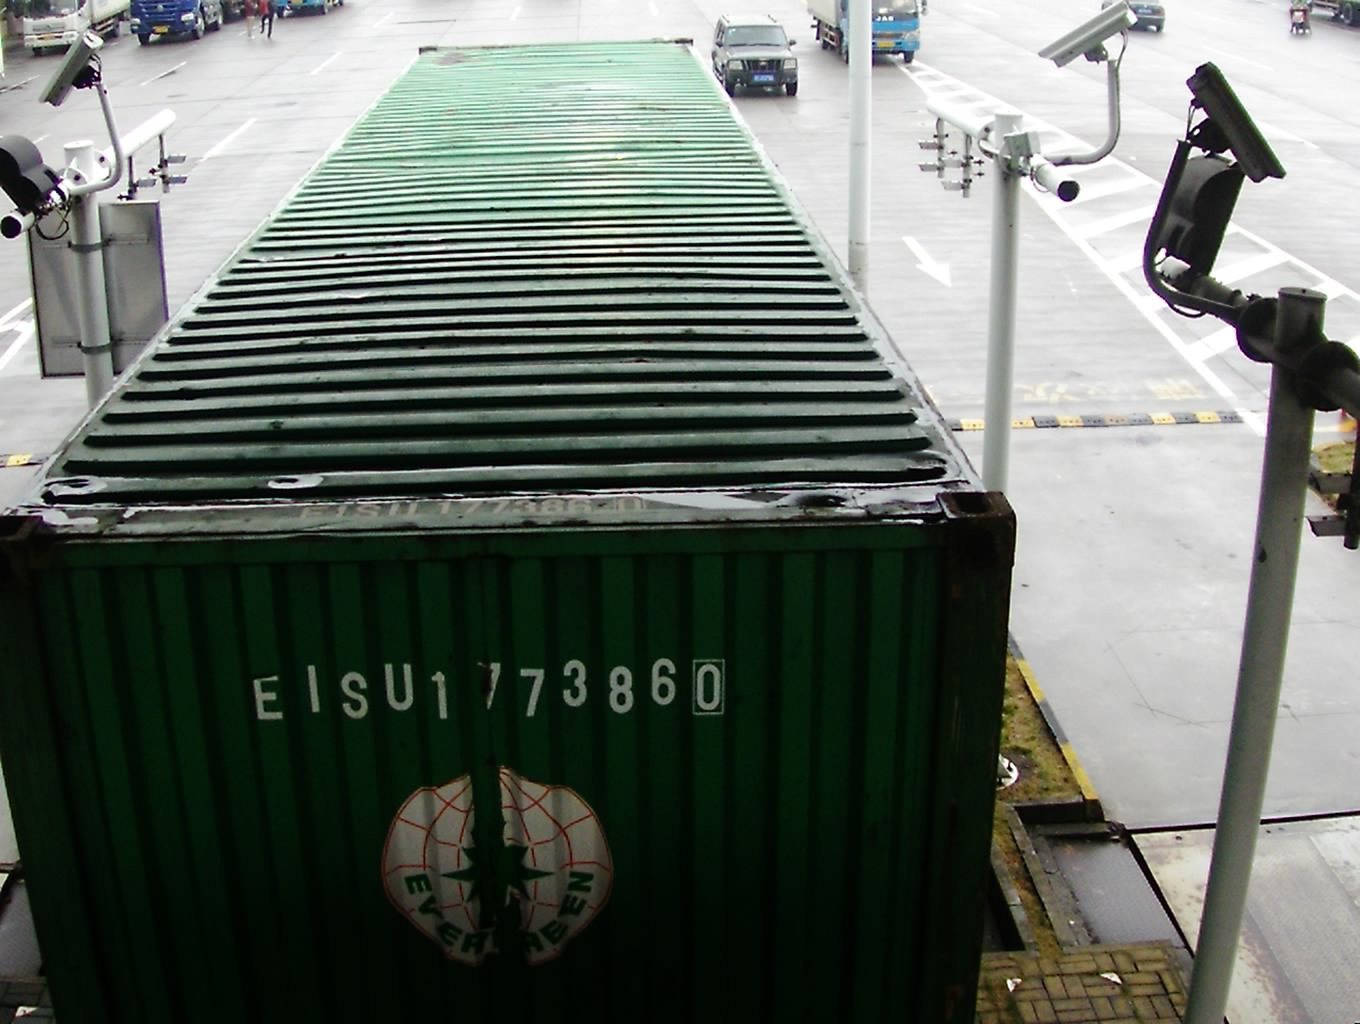words: (232, 650, 732, 733)
